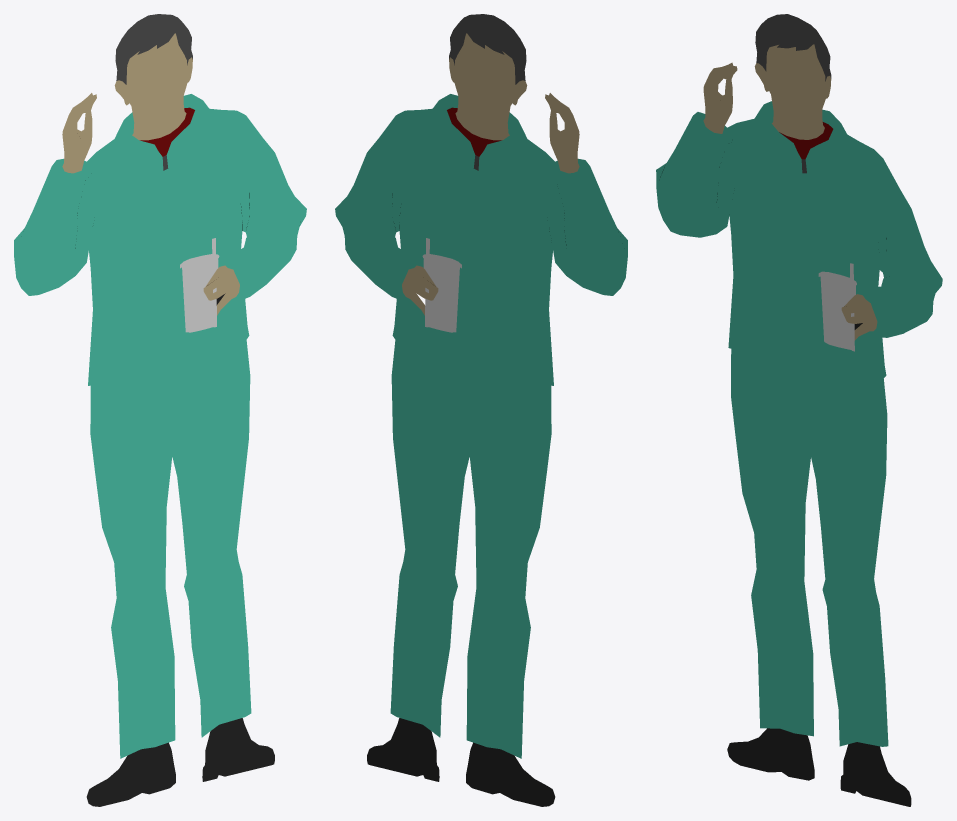
The model's file is 2D_Man_Standing_John-scrubs.fbx.
The picture shows the model from 3 angles, left to right: view 1: azimuth 30°, elevation 25°; view 2: azimuth 150°, elevation 25°; view 3: azimuth 330°, elevation 25°; orthographic projection. The views are drawn at different scales.
Visible parts, largest first — view 1: Mesh01; view 2: Mesh01; view 3: Mesh01.
Part boxes in pixels (x1=…): Mesh01: x1=14, y1=14, x2=306, y2=806; Mesh01: x1=335, y1=14, x2=627, y2=806; Mesh01: x1=656, y1=14, x2=942, y2=806.
Bounding box in the file's own units: 39.3 × 100 × 1.28e-13.
